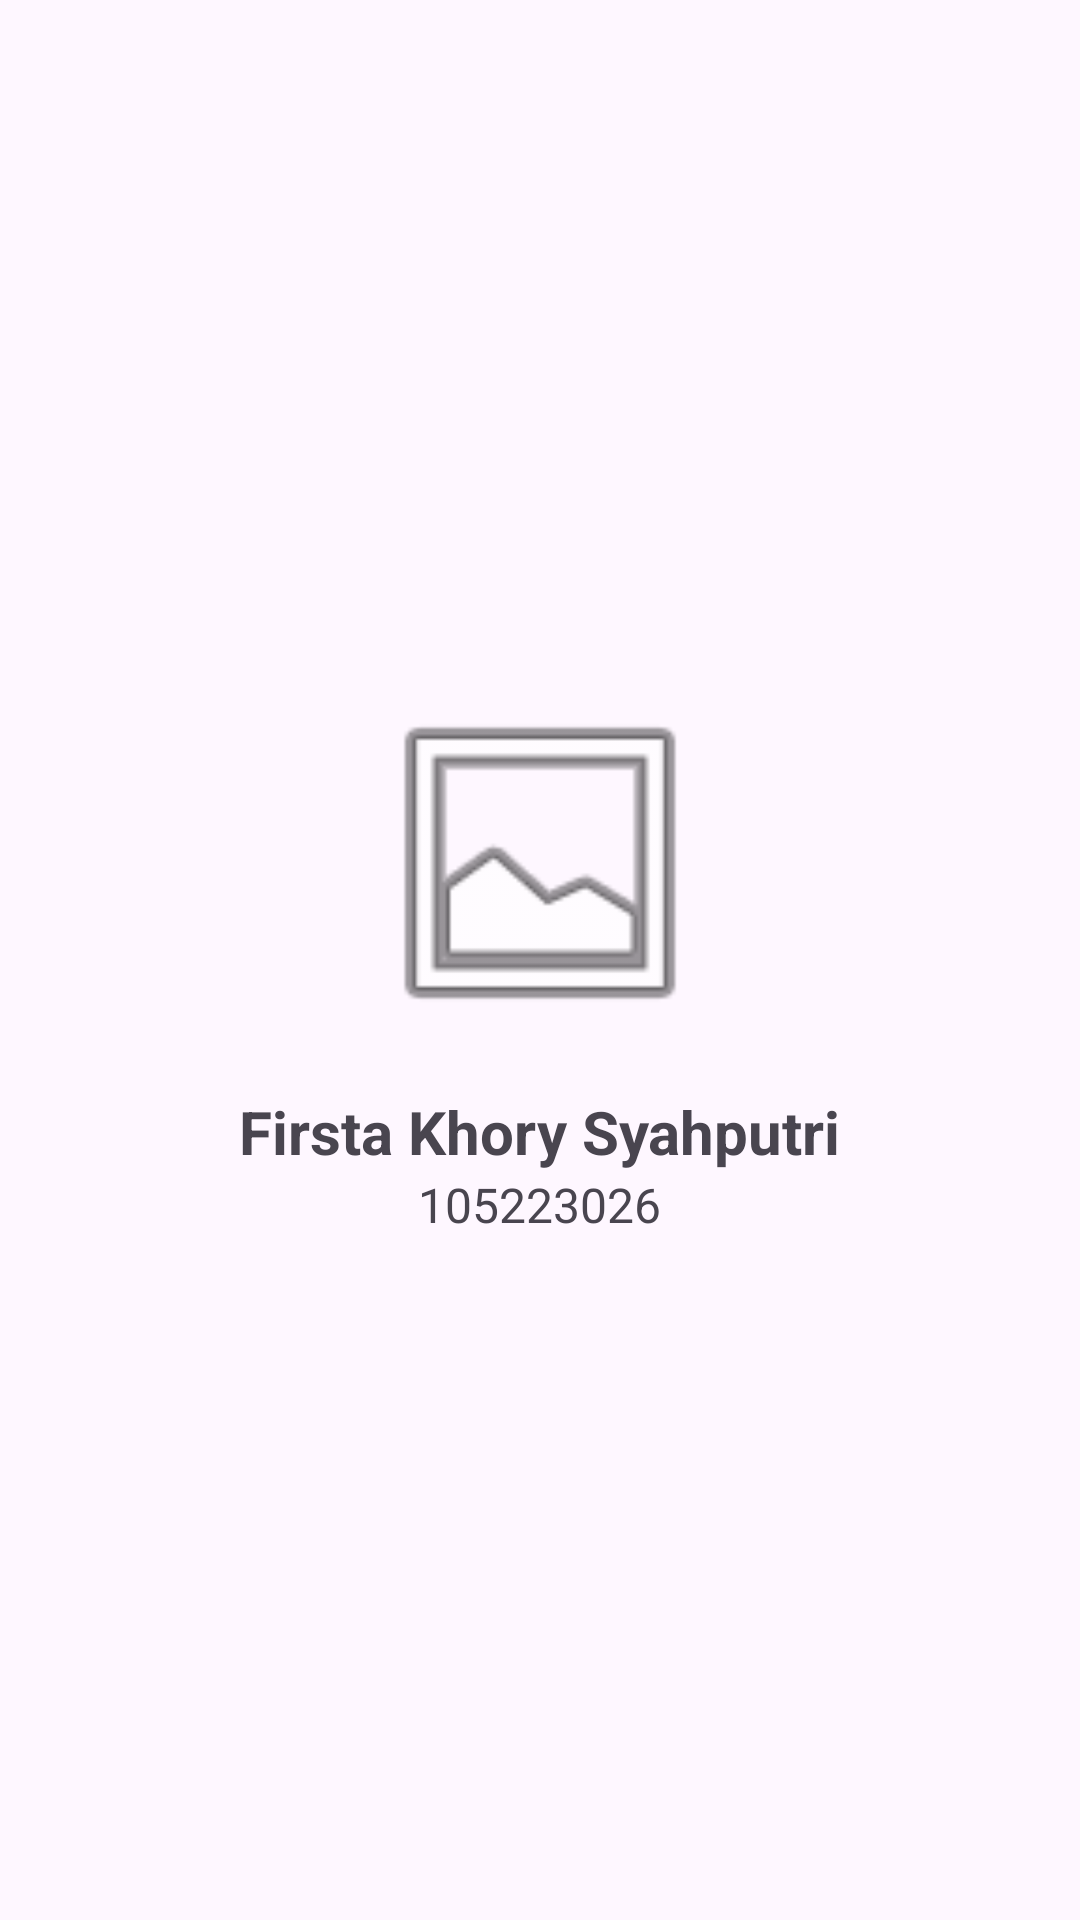

Where to tap for icons on this 1080 x 1920 app screen, as (x=x, y=y):
gallery: (x=540, y=863)
